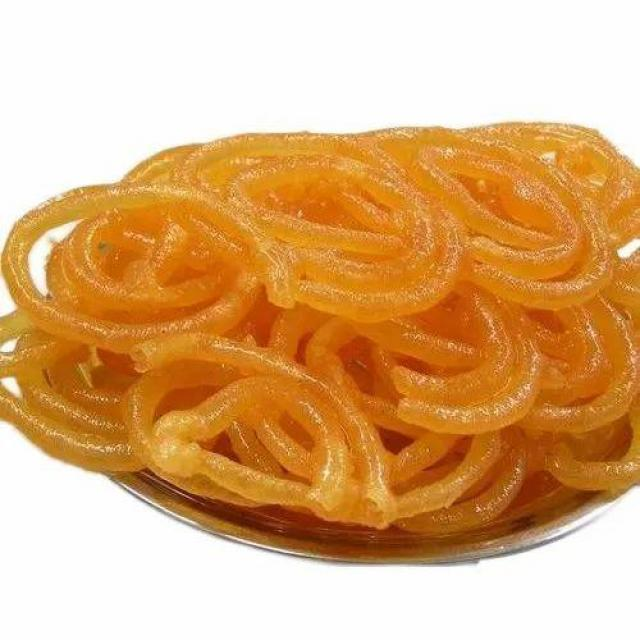jalebi: (6, 127, 640, 549)
